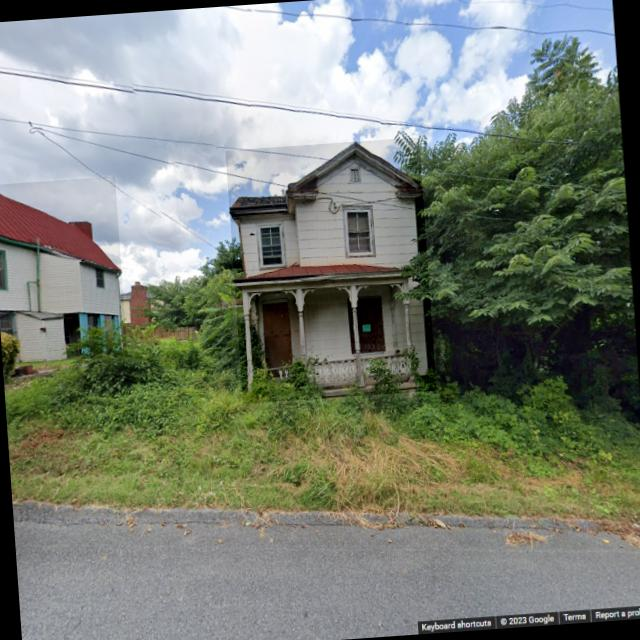House: (225, 137, 436, 404), (0, 176, 127, 364)
